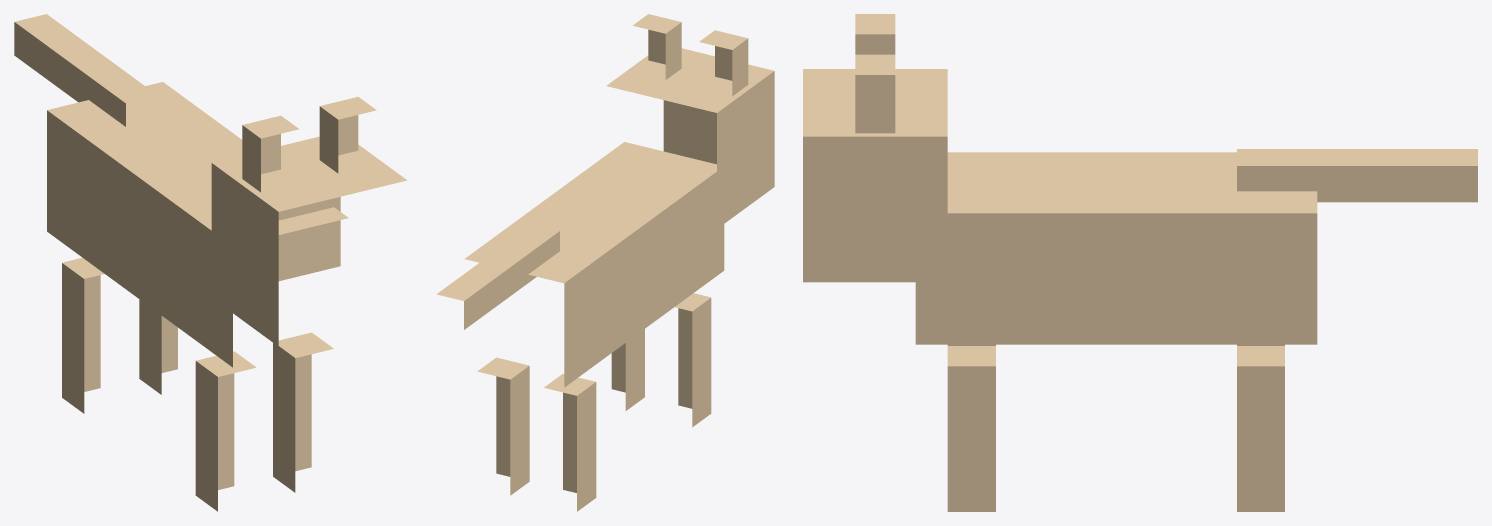
File: cat.gltf
The picture shows the model from 3 angles, left to right: view 1: azimuth 30°, elevation 25°; view 2: azimuth 150°, elevation 25°; view 3: azimuth 270°, elevation 25°; orthographic projection. The views are drawn at different scales.
Parts seen in each view (by area): view 1: Cat; view 2: Cat; view 3: Cat.
Boxes of the visible parts, bbox=[...] form: Cat: bbox=[14, 14, 407, 511]; Cat: bbox=[436, 14, 774, 511]; Cat: bbox=[803, 14, 1477, 511].
Size of the model in its own units: 0.2 by 0.6 by 0.84.
